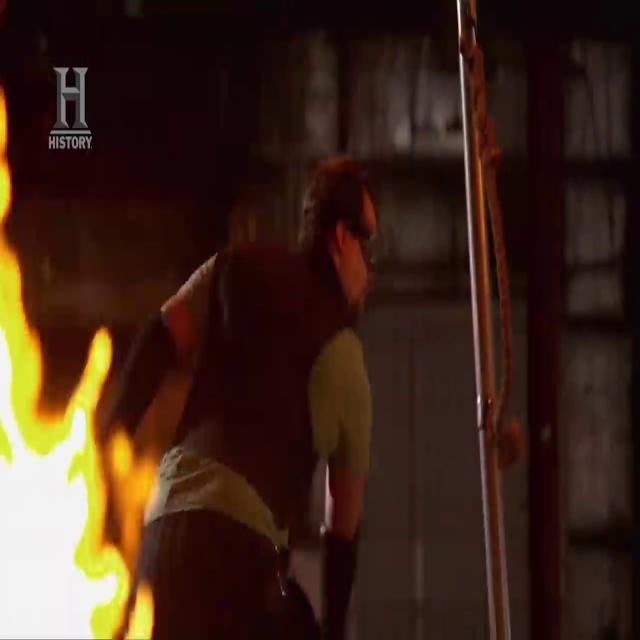fire: (7, 308, 120, 634)
